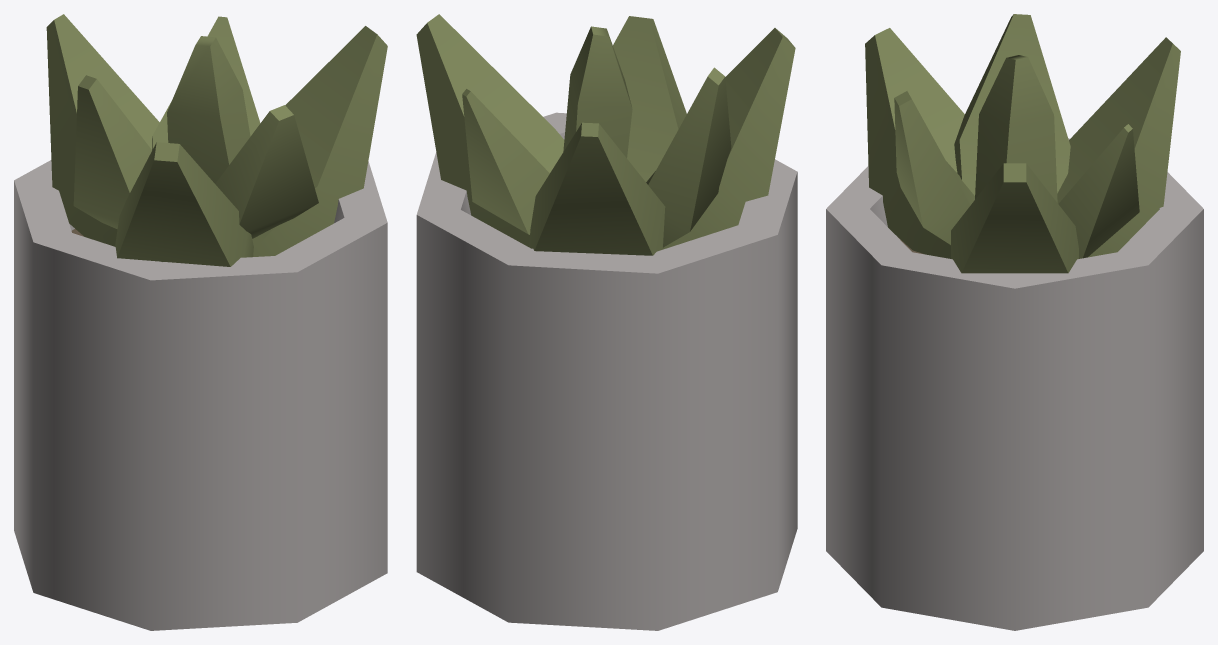
Rendered from SM_Prop_Plant_11.obj.
3 views of the same model, side by side, from view 1: azimuth 30°, elevation 25°; view 2: azimuth 150°, elevation 25°; view 3: azimuth 270°, elevation 25° (orthographic). The views are drawn at different scales.
Visible parts, largest first — view 1: SM_Prop_Plant_11_Mat_SwatchOverlay_PolygonOffice_01_Inst; view 2: SM_Prop_Plant_11_Mat_SwatchOverlay_PolygonOffice_01_Inst; view 3: SM_Prop_Plant_11_Mat_SwatchOverlay_PolygonOffice_01_Inst.
Part boxes in pixels (bbox=[...]): SM_Prop_Plant_11_Mat_SwatchOverlay_PolygonOffice_01_Inst: bbox=[14, 14, 387, 630]; SM_Prop_Plant_11_Mat_SwatchOverlay_PolygonOffice_01_Inst: bbox=[416, 14, 797, 630]; SM_Prop_Plant_11_Mat_SwatchOverlay_PolygonOffice_01_Inst: bbox=[826, 14, 1203, 630].
Bounding box in the file's own units: 0.2161 × 0.3025 × 0.2076.
1 material, 1 textured.
